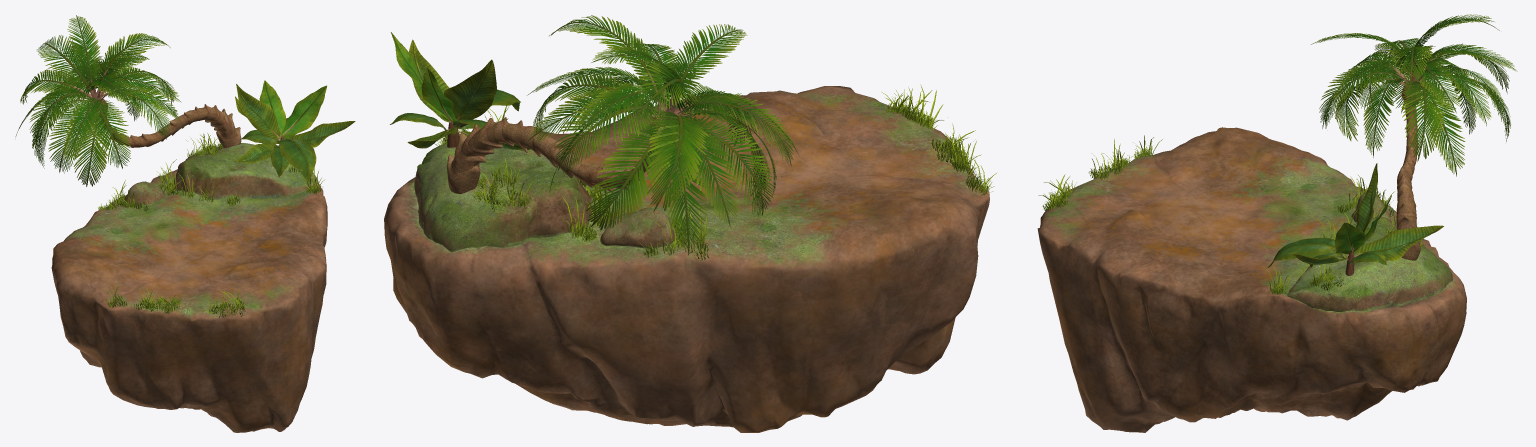
Rendered from Tropical island diorama.glb.
3 renders of one model, left to right at view 1: azimuth 30°, elevation 25°; view 2: azimuth 150°, elevation 25°; view 3: azimuth 270°, elevation 25°, orthographic. The views are drawn at different scales.
Size of the model in its own units: 0.1047 by 0.0968 by 0.1107.
2 materials, 2 textured.
